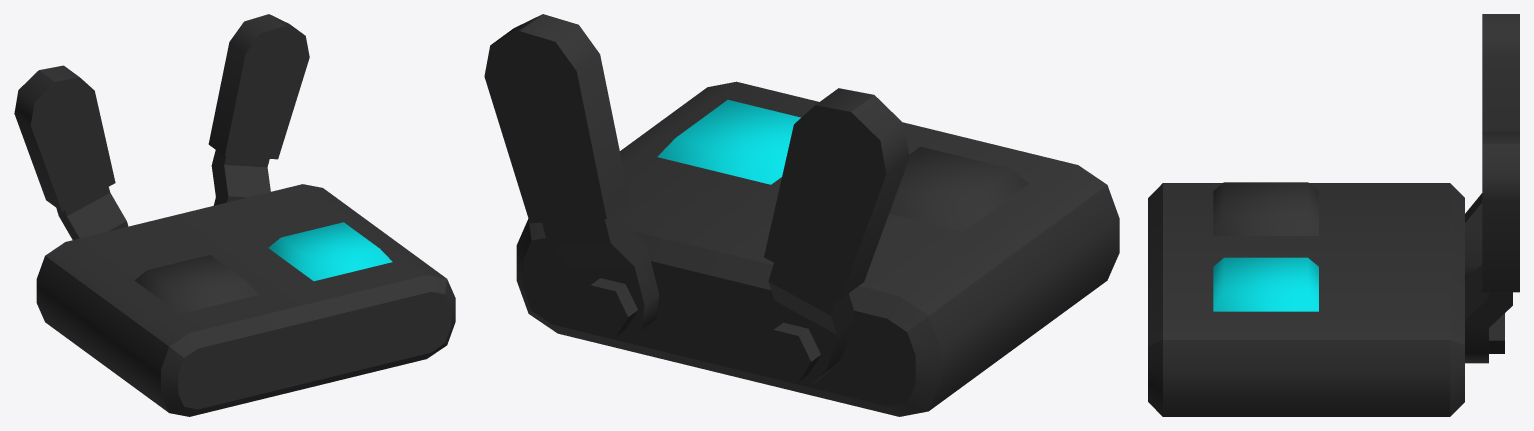
Rendered from obj_interactive_router_bshape.fbx.
The picture shows the model from 3 angles, left to right: view 1: azimuth 30°, elevation 25°; view 2: azimuth 150°, elevation 25°; view 3: azimuth 270°, elevation 25°; orthographic projection. The views are drawn at different scales.
Visible parts, largest first — view 1: obj_interactive_router_lp.001; view 2: obj_interactive_router_lp.001; view 3: obj_interactive_router_lp.001.
Boxes of the visible parts, x1=… form: obj_interactive_router_lp.001: x1=14, y1=14, x2=455, y2=416; obj_interactive_router_lp.001: x1=484, y1=14, x2=1119, y2=416; obj_interactive_router_lp.001: x1=1148, y1=14, x2=1519, y2=416.
Bounding box in the file's own units: 1 × 0.7555 × 0.9443.
